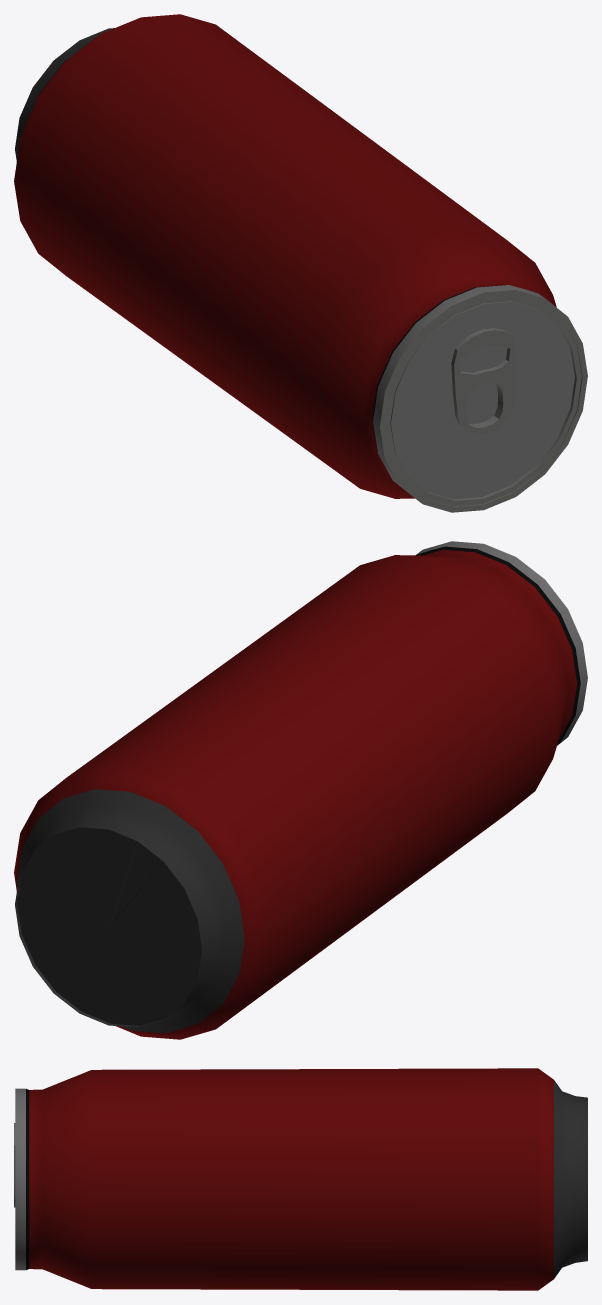
Rendered from blimp_body_cola_v4.dae.
3 views of the same model, one above another, from view 1: azimuth 30°, elevation 25°; view 2: azimuth 150°, elevation 25°; view 3: azimuth 270°, elevation 25° (orthographic). The views are drawn at different scales.
Visible parts, largest first — view 1: pCylinder1; view 2: pCylinder1; view 3: pCylinder1.
Boxes of the visible parts, x1,y1,x2,y2 form: pCylinder1: (14,14,587,512); pCylinder1: (14,541,587,1039); pCylinder1: (14,1068,587,1290).
Bounding box in the file's own units: 196 × 196 × 503.
